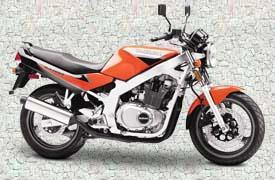motorcycle: (8, 7, 270, 171)
